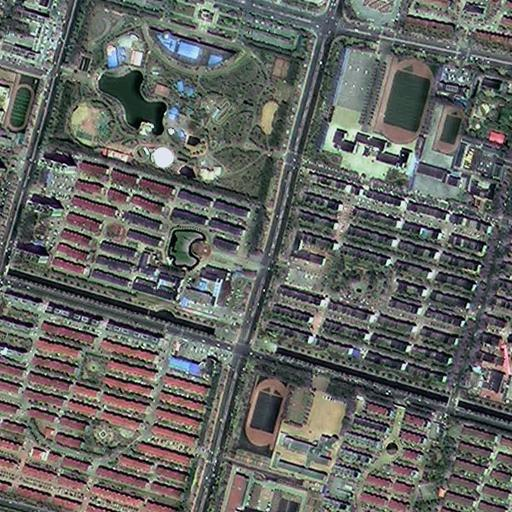school: (313, 42, 440, 179), (225, 357, 351, 481), (417, 93, 469, 197)
